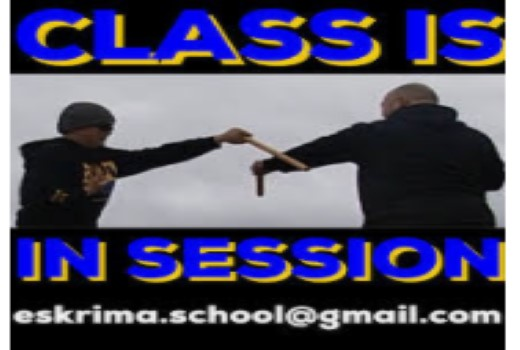baston_e: (253, 133, 297, 171)
baston_v: (291, 153, 315, 175), (239, 127, 250, 149)
